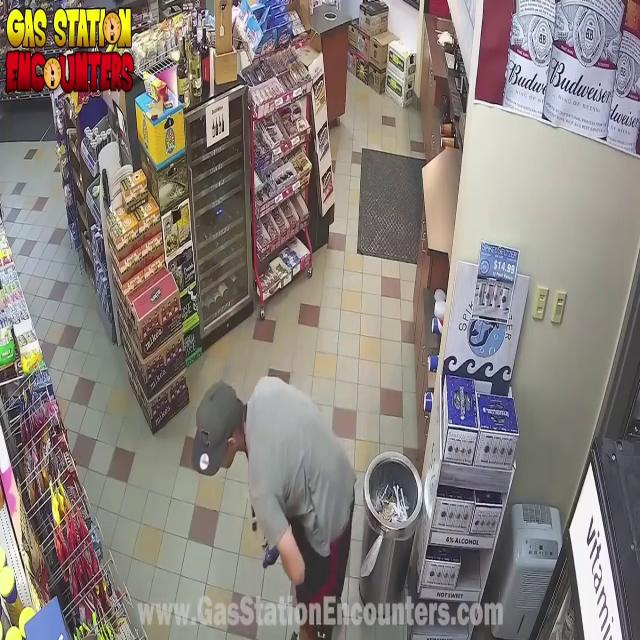Product: (244, 534, 280, 582)
shoplifting: (189, 290, 374, 640)
